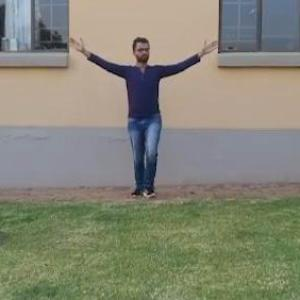takeoff: (76, 31, 225, 190)
